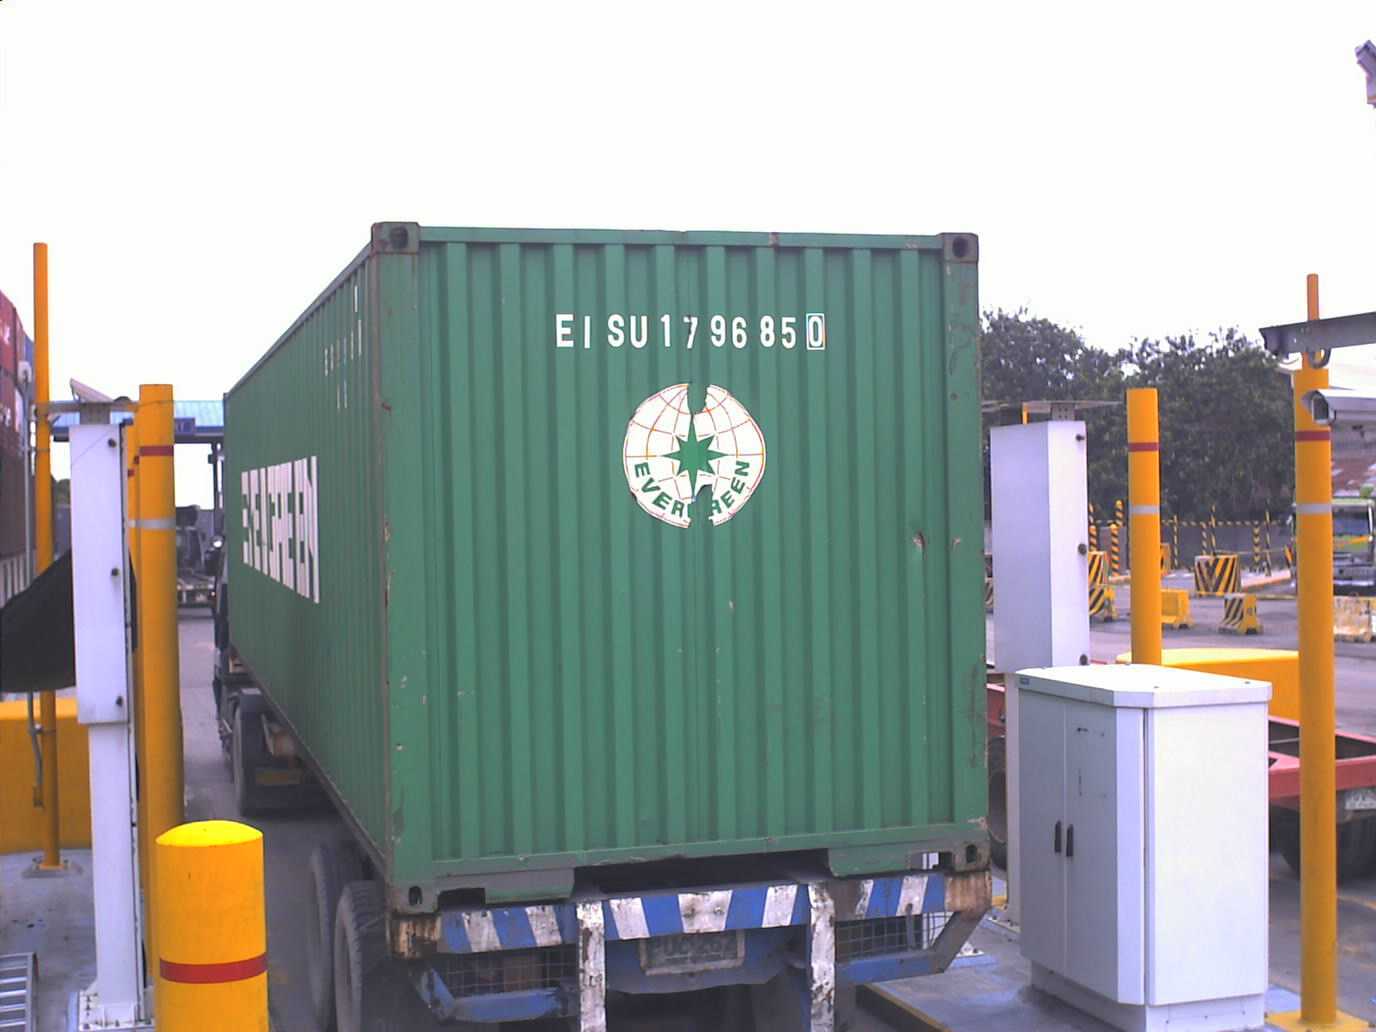container_door: (366, 215, 986, 870)
